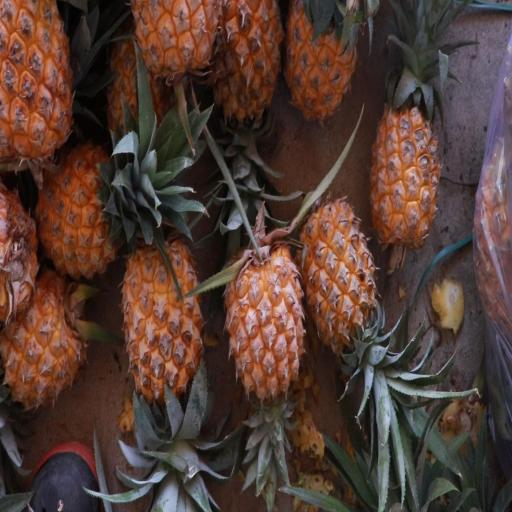Pineapple - v8 v1: (119, 232, 206, 444), (30, 135, 154, 282), (292, 192, 378, 385), (224, 228, 312, 412), (366, 59, 444, 249), (0, 1, 79, 188), (1, 261, 89, 412), (206, 0, 287, 137), (283, 0, 361, 137), (126, 0, 225, 97)
